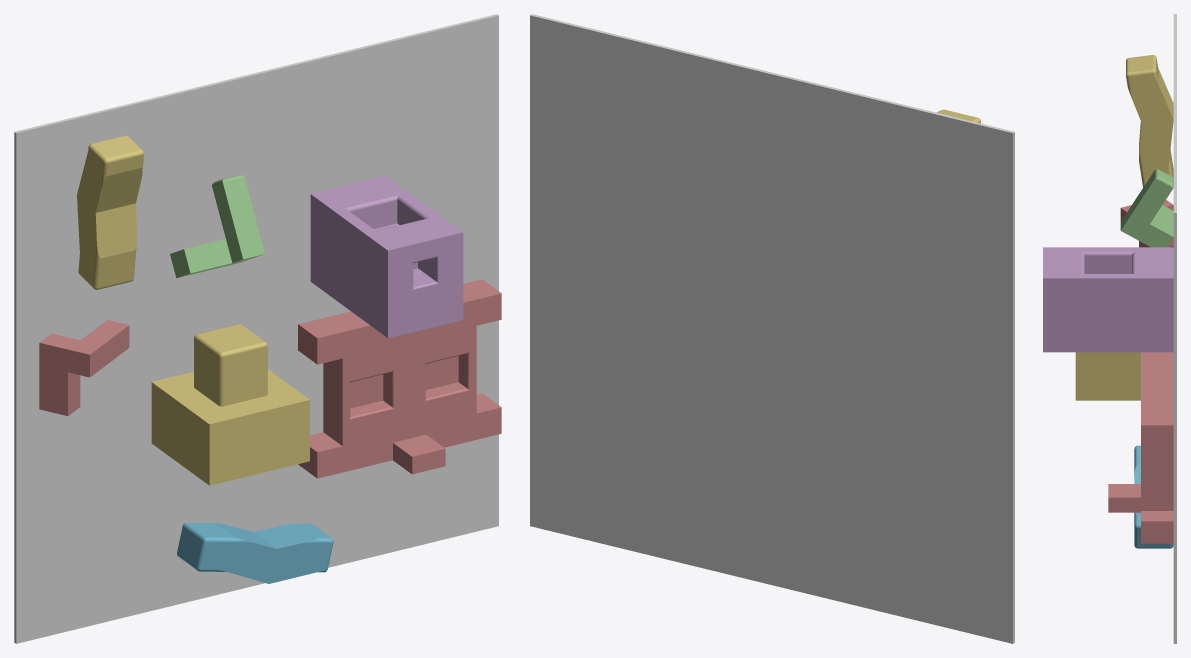
The model's file is pickup_layout.glb.
3 renders of one model, left to right at view 1: azimuth 30°, elevation 25°; view 2: azimuth 150°, elevation 25°; view 3: azimuth 270°, elevation 25°, orthographic. The views are drawn at different scales.
Visible parts, largest first — view 1: world, 0.obj, 3.obj, 6.obj, 1.obj, 2.obj, 5.obj, 4.obj; view 2: world; view 3: 3.obj, 0.obj, 1.obj, 6.obj, 4.obj, world, 2.obj, 5.obj.
Part boxes in pixels (bbox=[...]): world: bbox=[14, 14, 498, 643]; 0.obj: bbox=[298, 279, 501, 478]; 3.obj: bbox=[310, 175, 463, 338]; 6.obj: bbox=[151, 324, 309, 485]; 1.obj: bbox=[77, 135, 143, 289]; 2.obj: bbox=[177, 523, 333, 583]; 5.obj: bbox=[39, 320, 129, 415]; 4.obj: bbox=[170, 175, 264, 278]; world: bbox=[530, 14, 1014, 643]; 3.obj: bbox=[1043, 247, 1173, 352]; 0.obj: bbox=[1108, 352, 1173, 543]; 1.obj: bbox=[1126, 55, 1173, 187]; 6.obj: bbox=[1075, 352, 1140, 400]; 4.obj: bbox=[1120, 169, 1173, 247]; world: bbox=[1173, 14, 1176, 643]; 2.obj: bbox=[1134, 445, 1173, 548]; 5.obj: bbox=[1120, 200, 1173, 247].
Bounding box in the file's own units: 28.83 × 29.13 × 8.2.
